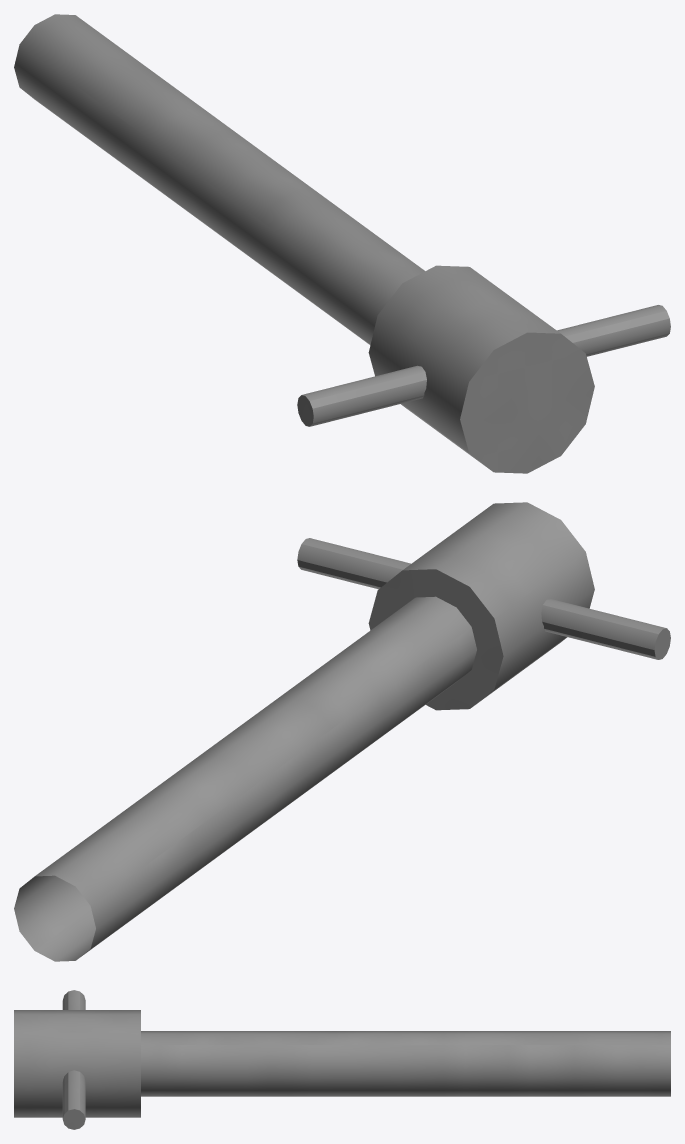
File: SM_止水夹子B_002.fbx
3 views of the same model, one above another, from view 1: azimuth 30°, elevation 25°; view 2: azimuth 150°, elevation 25°; view 3: azimuth 270°, elevation 25° (orthographic). The views are drawn at different scales.
Visible parts, largest first — view 1: SM_止水夹子B_002; view 2: SM_止水夹子B_002; view 3: SM_止水夹子B_002.
Boxes of the visible parts, x1,y1,x2,y2 form: SM_止水夹子B_002: [14, 14, 670, 473]; SM_止水夹子B_002: [14, 502, 670, 961]; SM_止水夹子B_002: [14, 990, 670, 1129].
Bounding box in the file's own units: 0.0257 × 0.0097 × 0.0588.
